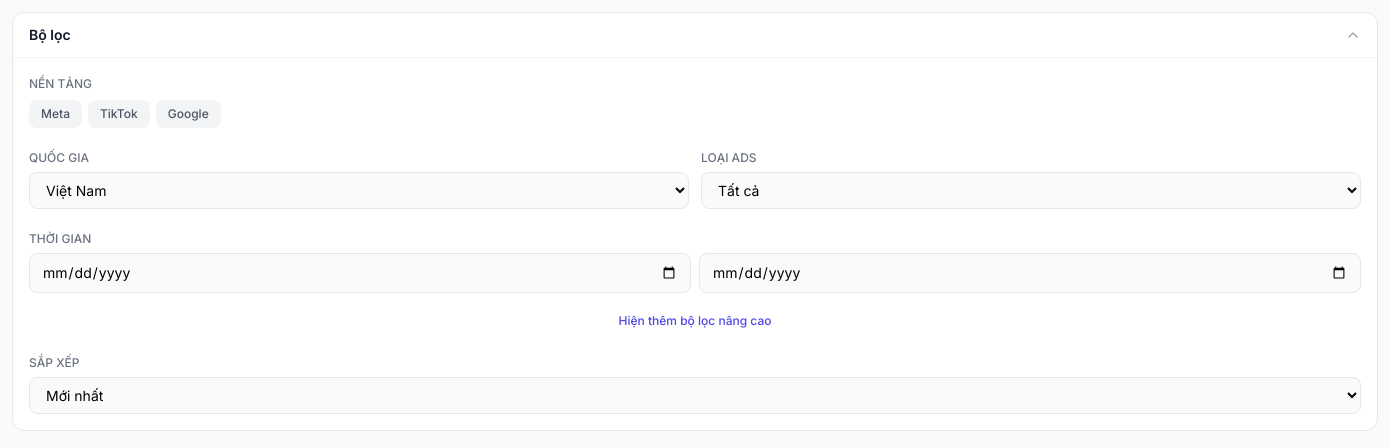
Test: FilterPanel › can collapse the panel
The width and height of the screenshot is (1390, 448).
Expected: the button "Meta" is shown, x1=29 y1=100 x2=82 y2=128
# Click header to collapse
Click the button "Bộ lọc".
click(50, 34)  # box x1=13 y1=13 x2=1377 y2=57
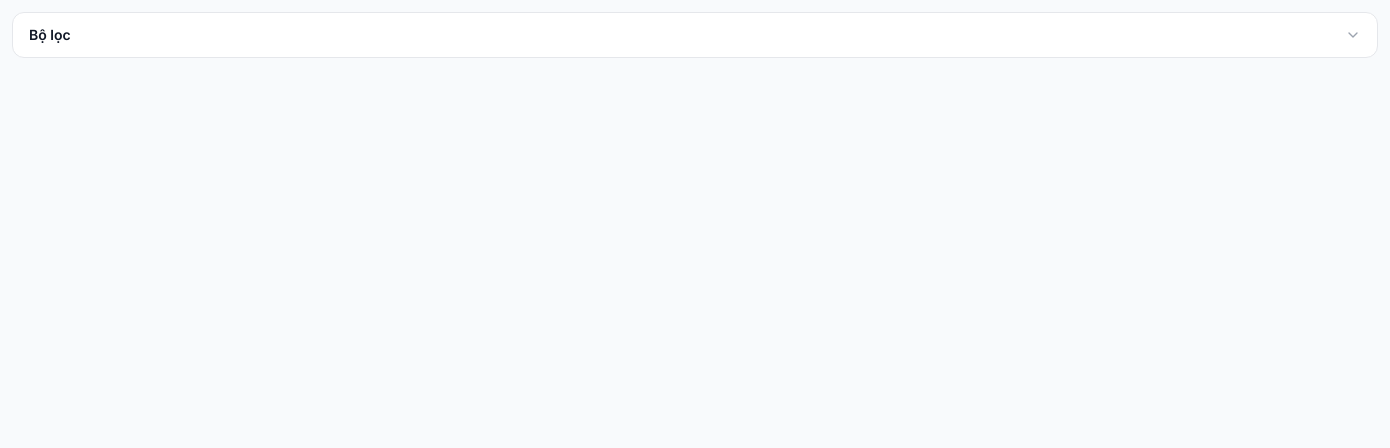
Now the button "Meta" is gone
